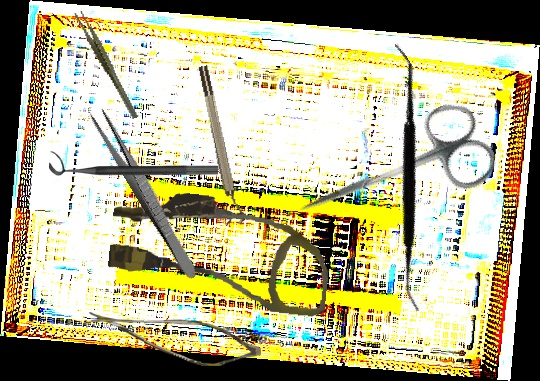Cannula: (104, 185, 336, 319)
Dressing Forceps: (86, 105, 204, 282)
Fixation Ring: (195, 63, 248, 227), (49, 151, 218, 176)
Iris Scissors: (284, 94, 504, 254)
Micro Scissor: (84, 311, 262, 367)
Spatula Surgical: (287, 42, 527, 313)
Tissue Forceps: (73, 3, 140, 127)
